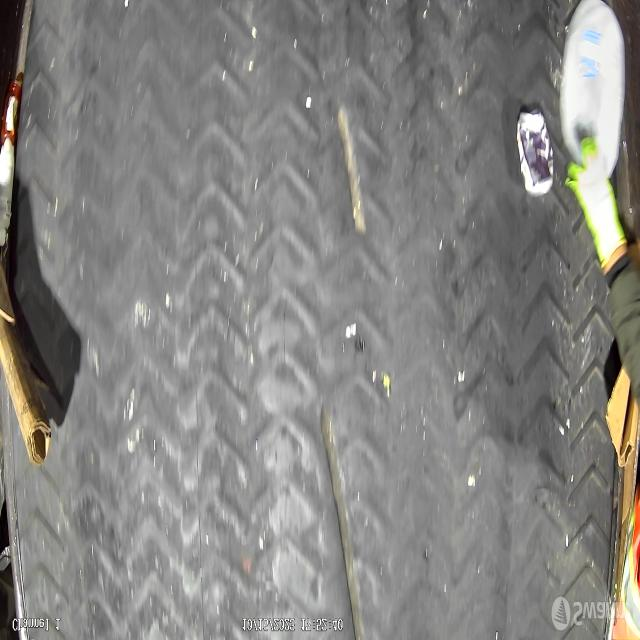can: (516, 108, 554, 197)
milk_jug: (560, 0, 627, 179)
